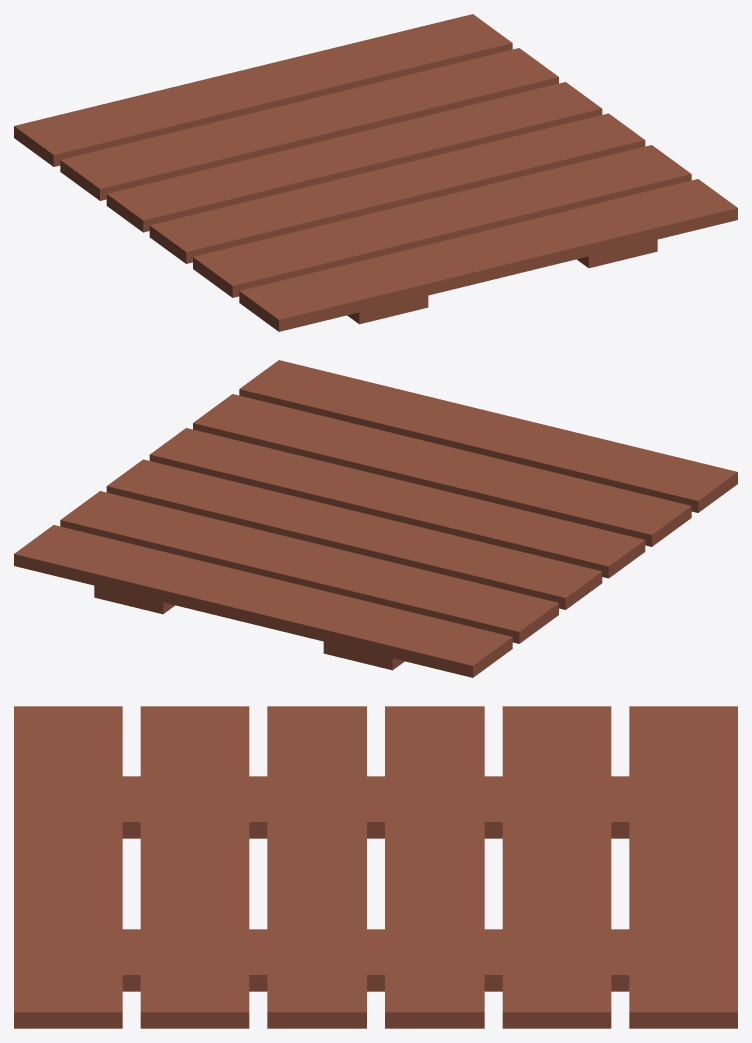
The model's file is scaffold_low 1.fbx.
3 renders of one model, top to bottom at view 1: azimuth 30°, elevation 25°; view 2: azimuth 150°, elevation 25°; view 3: azimuth 270°, elevation 25°, orthographic. The views are drawn at different scales.
Parts seen in each view (by area): view 1: scaffold_low; view 2: scaffold_low; view 3: scaffold_low.
Boxes of the visible parts, x1,y1,x2,y2 form: scaffold_low: [14, 14, 737, 331]; scaffold_low: [14, 360, 737, 677]; scaffold_low: [14, 706, 737, 1028].
Bounding box in the file's own units: 400 × 20 × 400.
